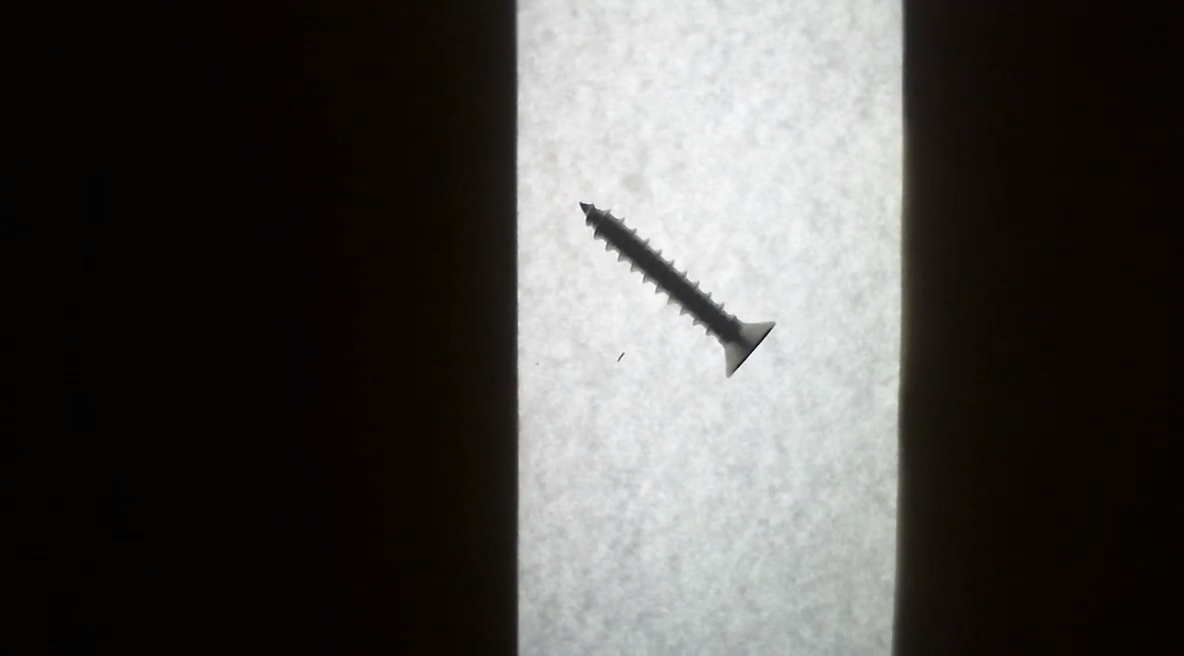S001: (566, 184, 797, 402)
